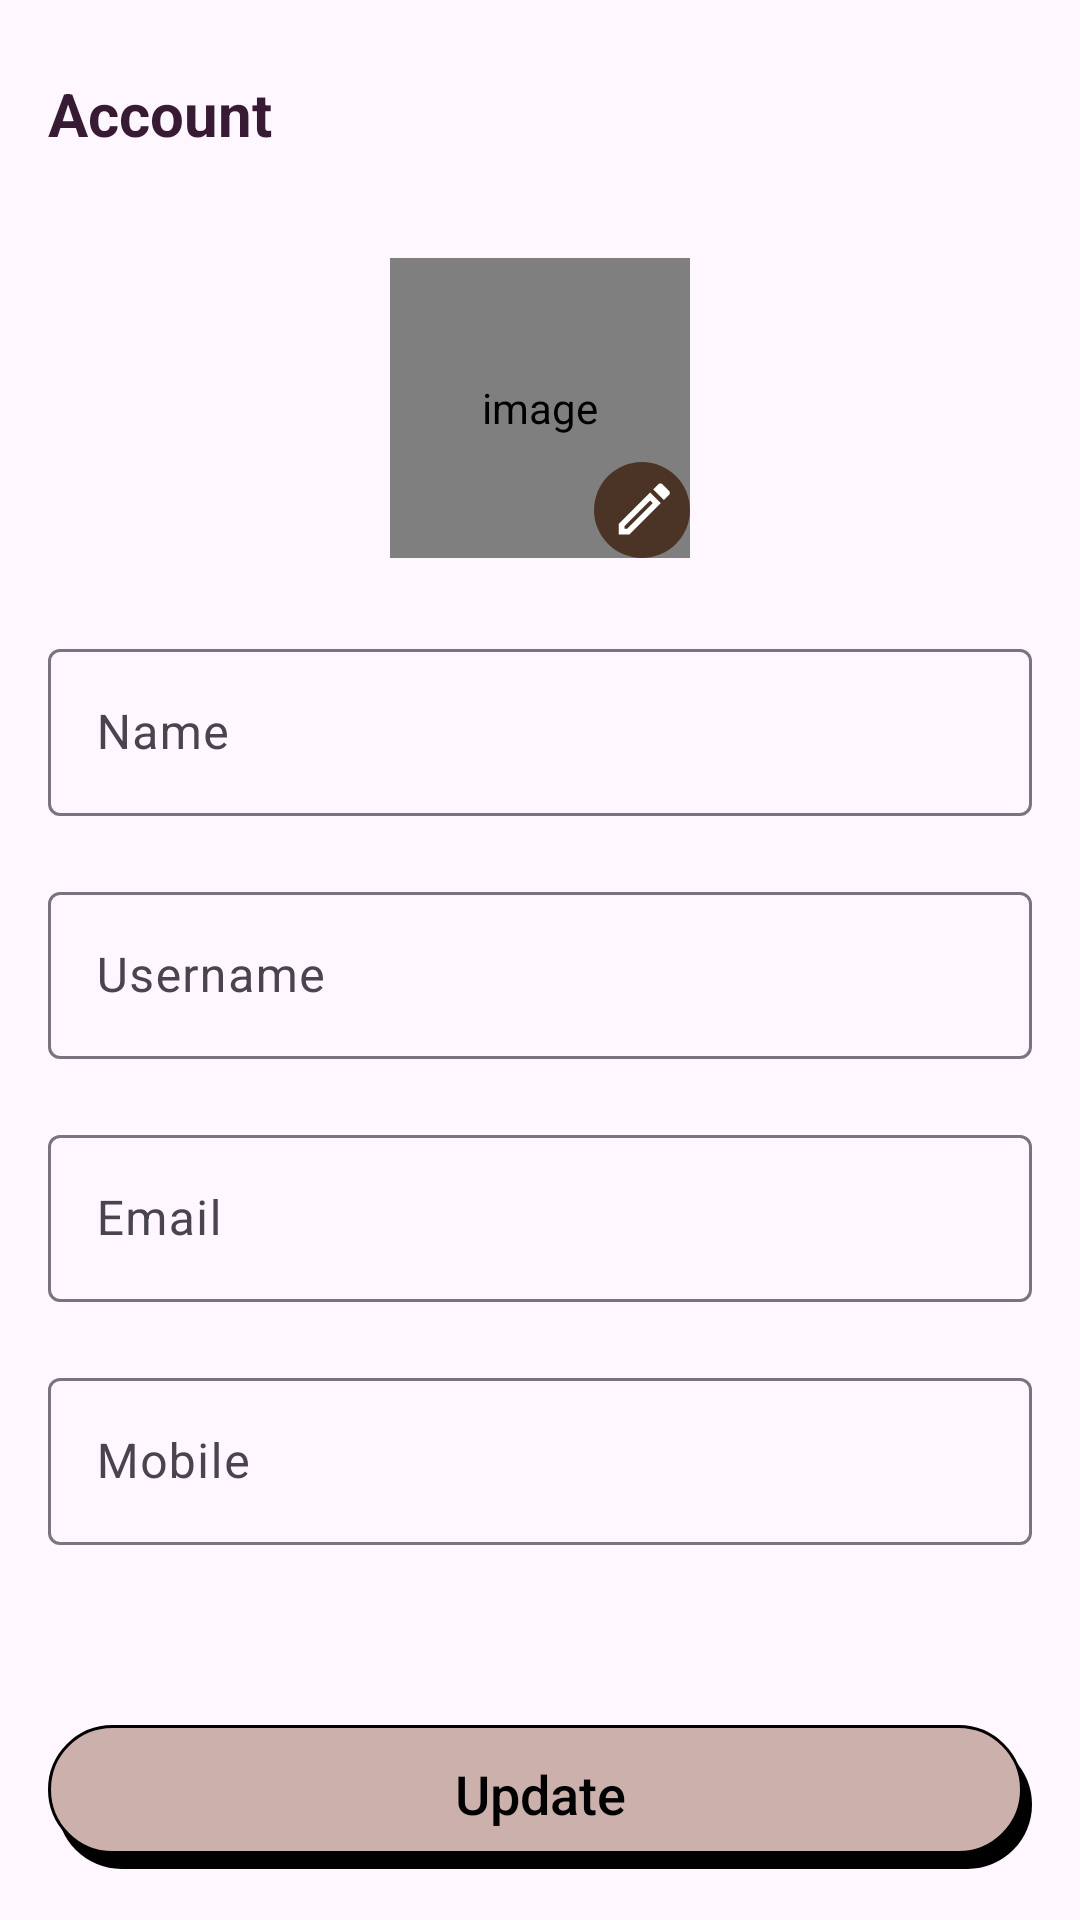

Point at icon controls on the screen. Image size 1080px×1920px, points as point (x, y).
change profile: point (642, 510)
